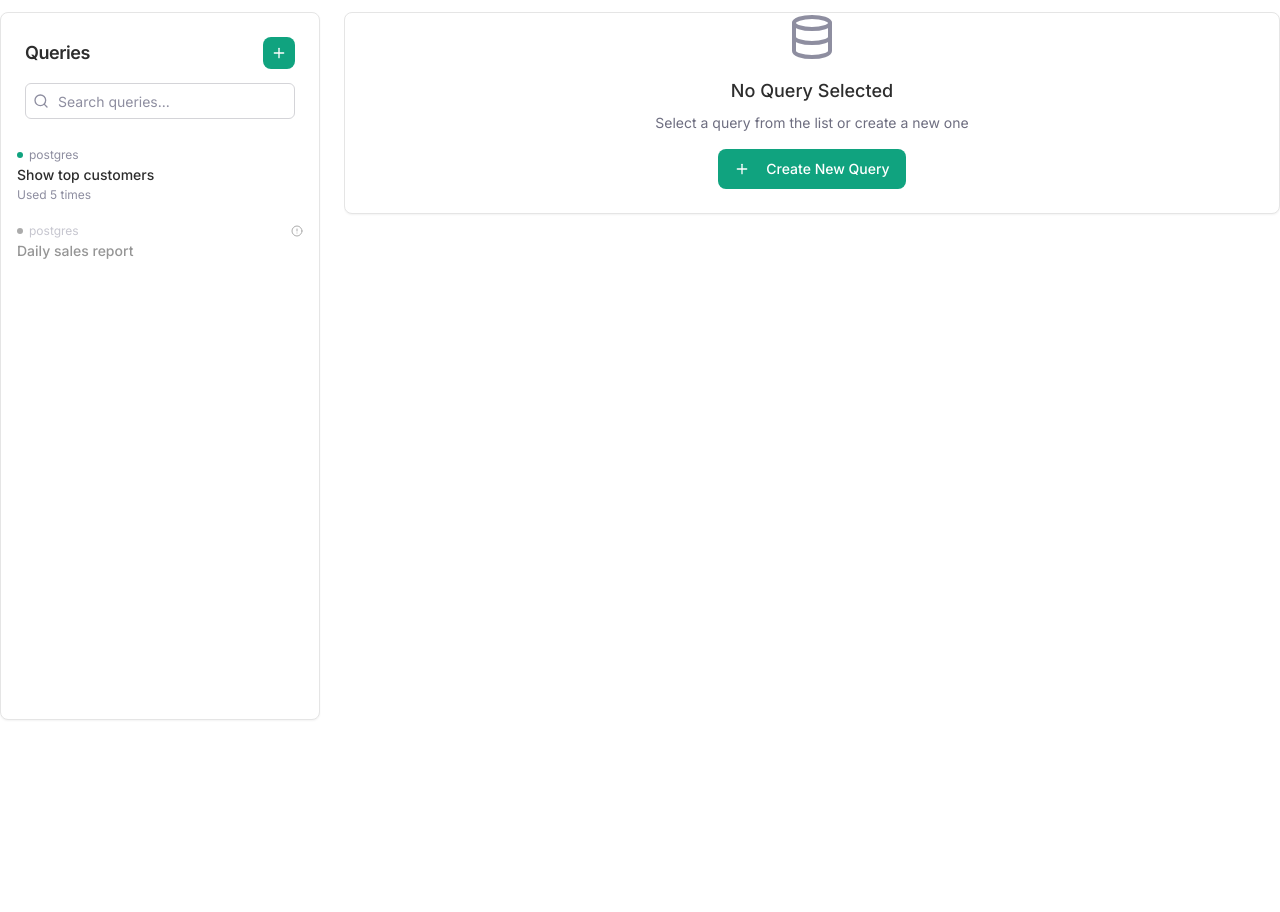
QueriesView › filters queries based on search term
Expected: the text "Show top customers" is shown, [17, 166, 154, 183]
Type "daily" into the field with placeholder "Search queries..." at {"x": 160, "y": 101}, box [25, 83, 295, 119]
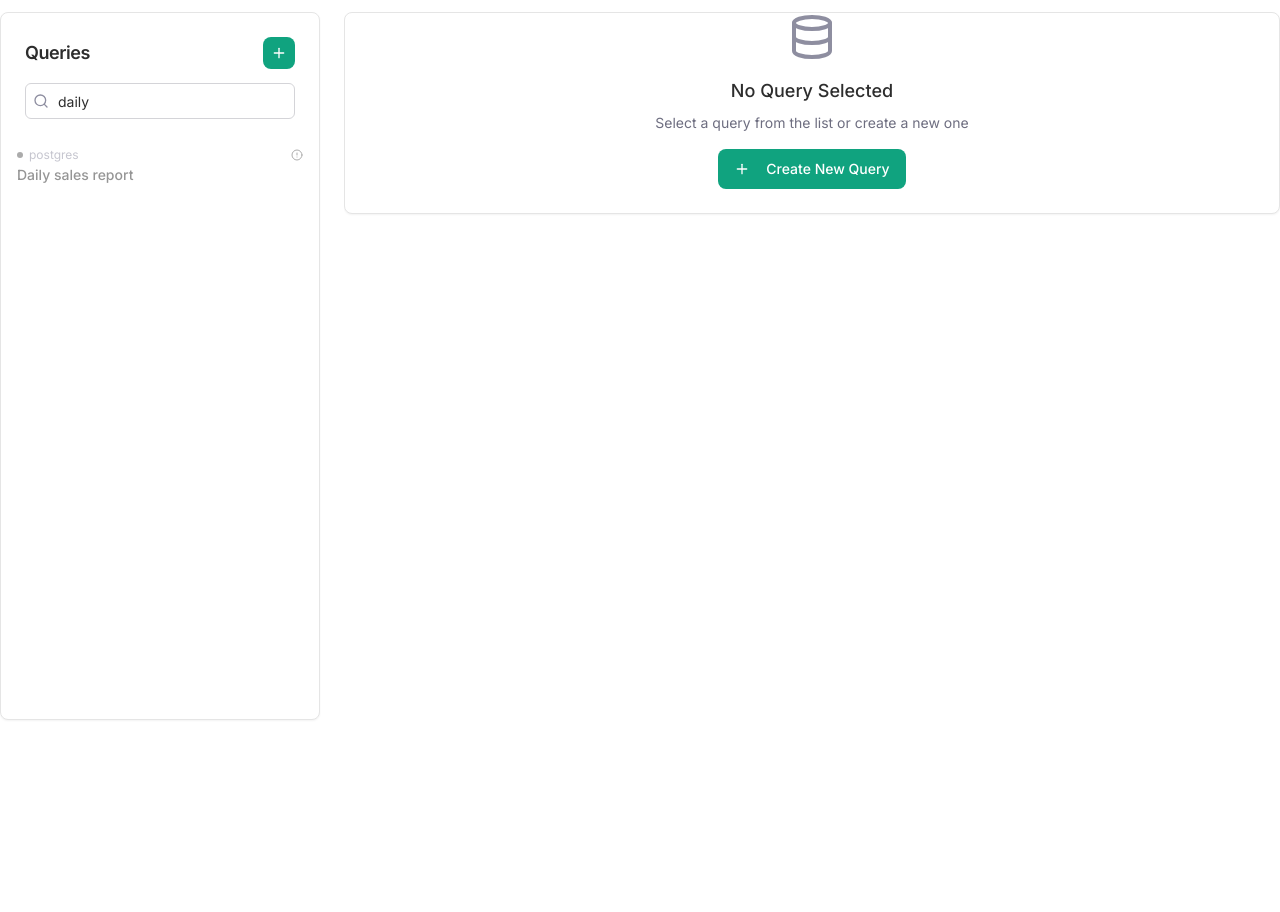
Expected: the text "Daily sales report" is shown, [17, 166, 133, 183]
Now the button "Show top customers" is gone
